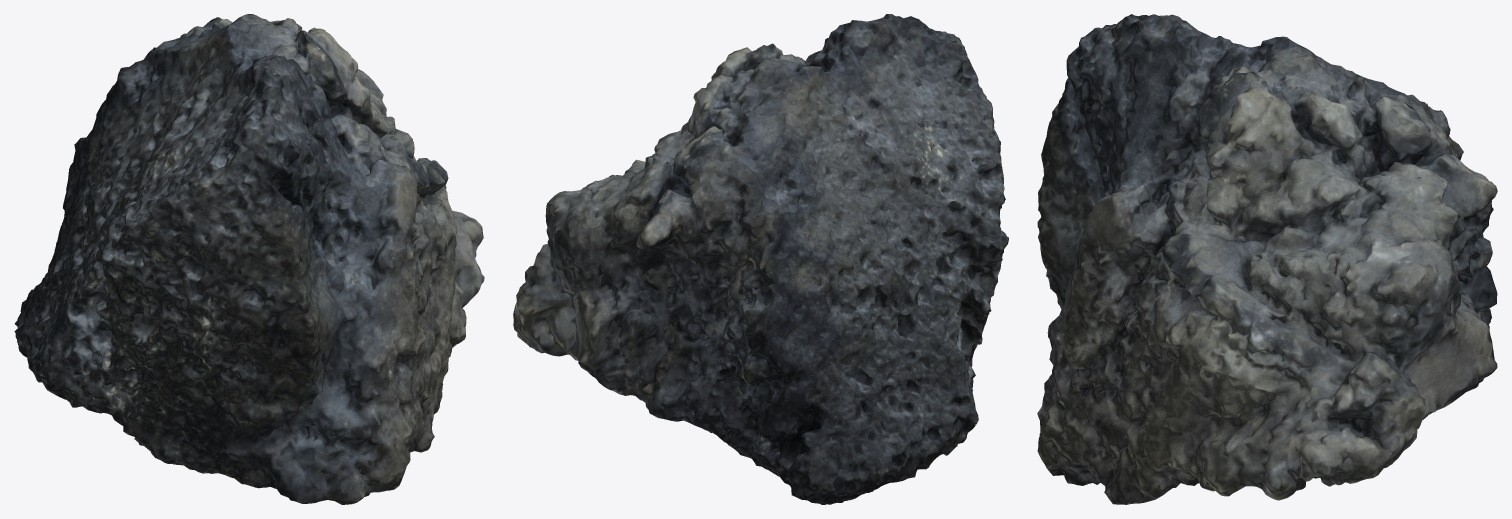
The model's file is pari2024.glb.
The picture shows the model from 3 angles, left to right: view 1: azimuth 30°, elevation 25°; view 2: azimuth 150°, elevation 25°; view 3: azimuth 270°, elevation 25°; orthographic projection. The views are drawn at different scales.
Visible parts, largest first — view 1: ManualCam_Model_2; view 2: ManualCam_Model_2; view 3: ManualCam_Model_2.
Boxes of the visible parts, <box> form: ManualCam_Model_2: <box>14,14,484,504</box>; ManualCam_Model_2: <box>513,14,1008,504</box>; ManualCam_Model_2: <box>1037,14,1497,504</box>.
Bounding box in the file's own units: 0.0709 × 0.061 × 0.06.
Materials: 1 (1 with a texture image).
